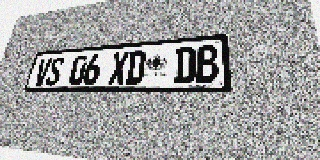0: (68, 55, 88, 85)
6: (82, 54, 103, 85)
B: (196, 45, 218, 83)
D: (174, 46, 196, 83), (125, 50, 146, 84)
S: (45, 57, 65, 86)
V: (33, 58, 53, 86)
X: (108, 52, 129, 85)
